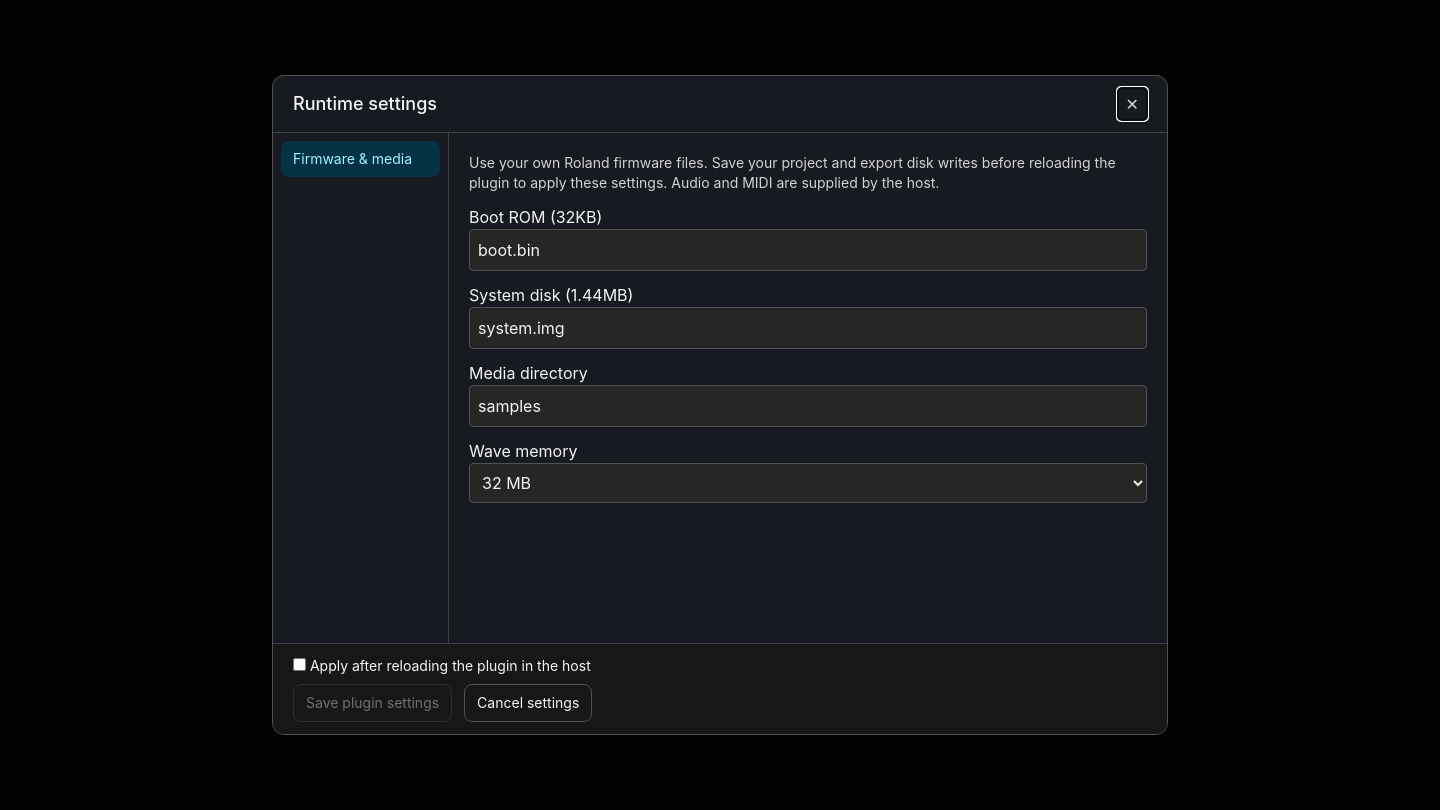
Scenario: Runtime settings › uses host-driven plugin settings without standalone audio controls
Expected: the button "Save plugin settings" is disabled, x1=293 y1=684 x2=452 y2=722
Click the checkbox labelled "Apply after reloading the plugin in the host": (300, 664) x1=293 y1=658 x2=306 y2=671
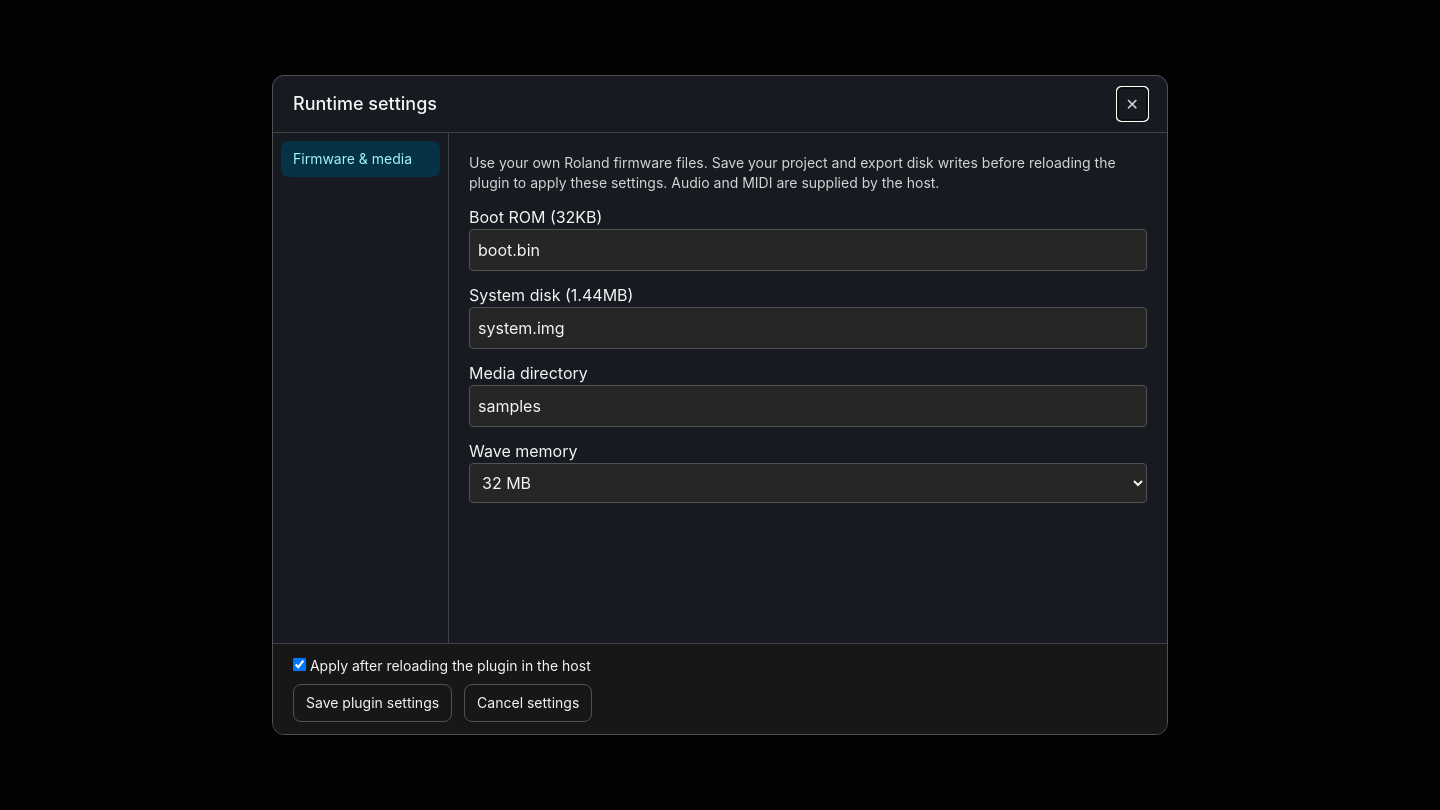
Result: the button "Save plugin settings" is enabled at x1=293 y1=684 x2=452 y2=722
